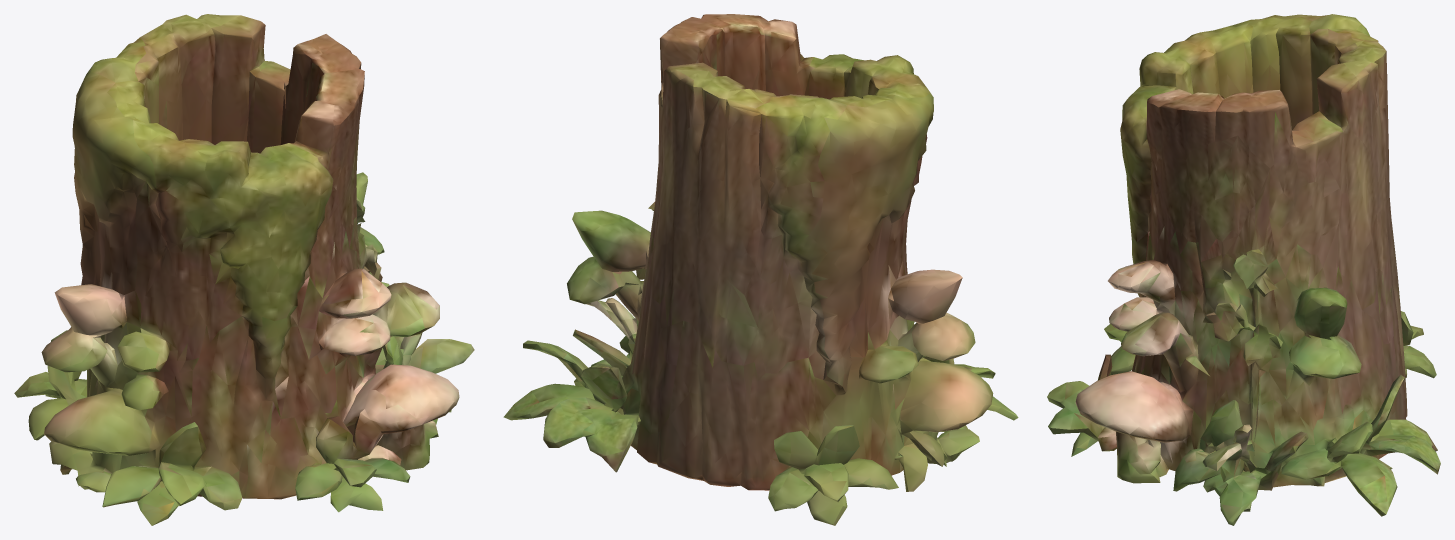
The model's file is tocon_hueco.glb.
The picture shows the model from 3 angles, left to right: view 1: azimuth 30°, elevation 25°; view 2: azimuth 150°, elevation 25°; view 3: azimuth 270°, elevation 25°; orthographic projection. The views are drawn at different scales.
Parts seen in each view (by area): view 1: tocon_hueco_malla; view 2: tocon_hueco_malla; view 3: tocon_hueco_malla.
Boxes of the visible parts, x1=… form: tocon_hueco_malla: x1=14, y1=14, x2=474, y2=525; tocon_hueco_malla: x1=503, y1=14, x2=1018, y2=525; tocon_hueco_malla: x1=1047, y1=14, x2=1440, y2=525.
Size of the model in its own units: 0.2082 by 0.1907 by 0.1766.
1 material, 1 textured.
